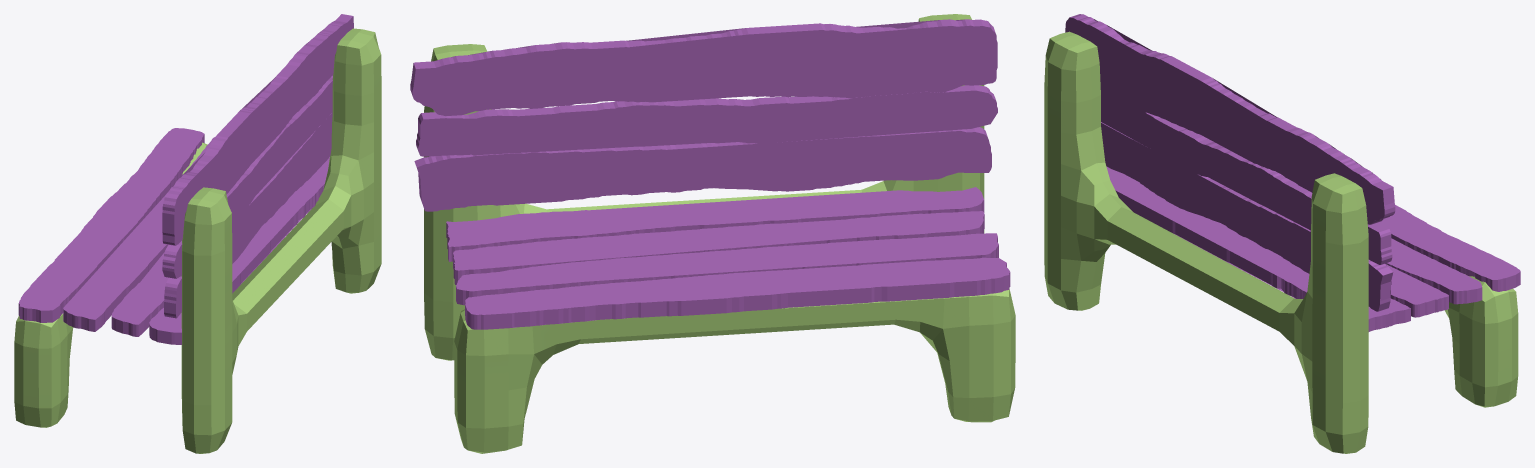
File: Bench_Section-one.fbx
3 views of the same model, side by side, from view 1: azimuth 30°, elevation 25°; view 2: azimuth 150°, elevation 25°; view 3: azimuth 270°, elevation 25° (orthographic). The views are drawn at different scales.
Visible parts, largest first — view 1: Plane.588, Cube.072; view 2: Plane.588, Cube.072; view 3: Plane.588, Cube.072.
Boxes of the visible parts, <box> form: Plane.588: <box>18,14,353,344</box>; Cube.072: <box>14,28,381,453</box>; Plane.588: <box>410,19,1010,329</box>; Cube.072: <box>424,14,1015,453</box>; Plane.588: <box>1065,14,1520,331</box>; Cube.072: <box>1044,31,1518,453</box>.
Bounding box in the file's own units: 213 × 128 × 196.
